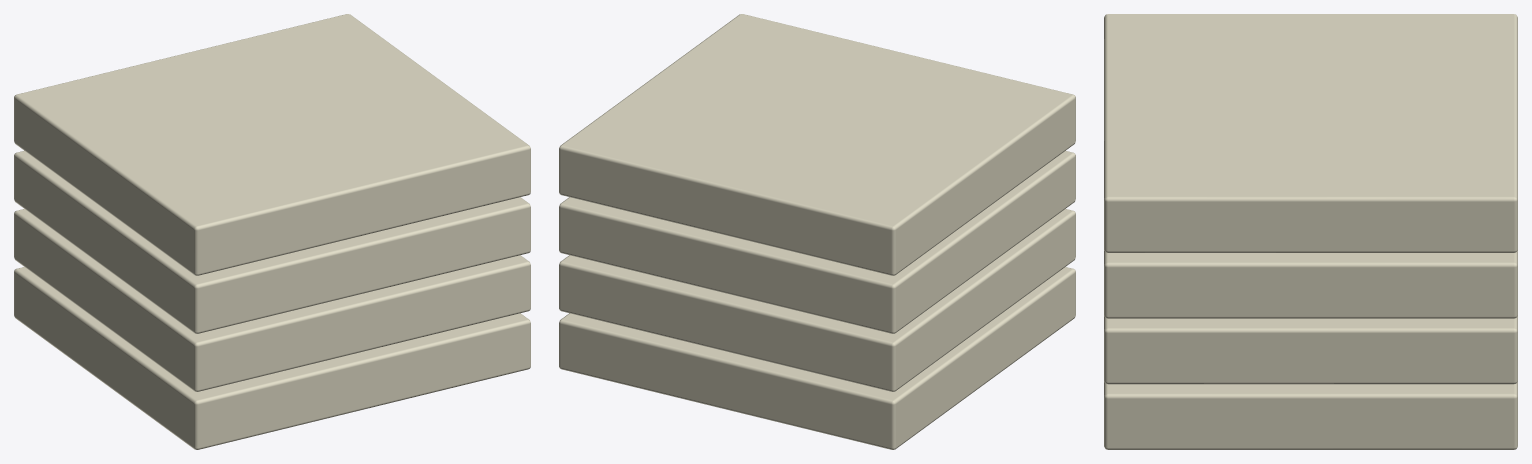
The model's file is survival-food-and-preservation-hardtack-stack-040fd98f__21752.glb.
The picture shows the model from 3 angles, left to right: view 1: azimuth 30°, elevation 25°; view 2: azimuth 150°, elevation 25°; view 3: azimuth 270°, elevation 25°; orthographic projection. The views are drawn at different scales.
Parts seen in each view (by area): view 1: hardtack-stack; view 2: hardtack-stack; view 3: hardtack-stack.
Boxes of the visible parts, left/top/right/bottom form: hardtack-stack: left=14, top=14, right=530, bottom=449; hardtack-stack: left=559, top=14, right=1075, bottom=449; hardtack-stack: left=1104, top=14, right=1517, bottom=449.
Size of the model in its own units: 0.085 by 0.054 by 0.08.
